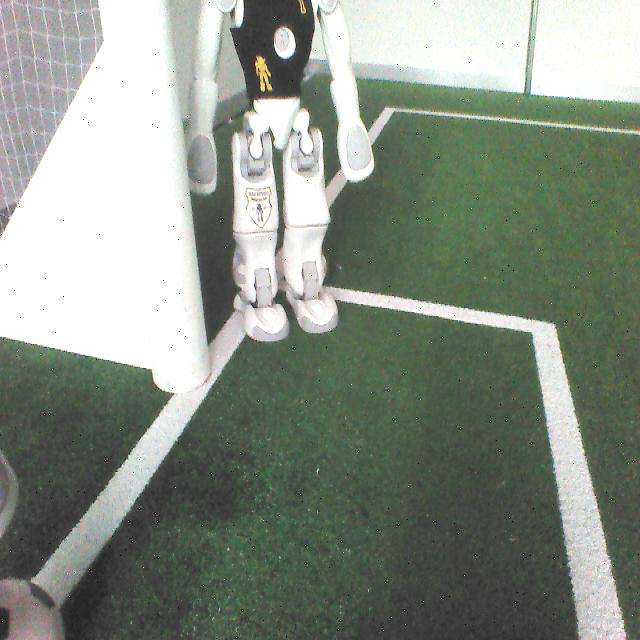goalpost: (97, 0, 214, 391)
